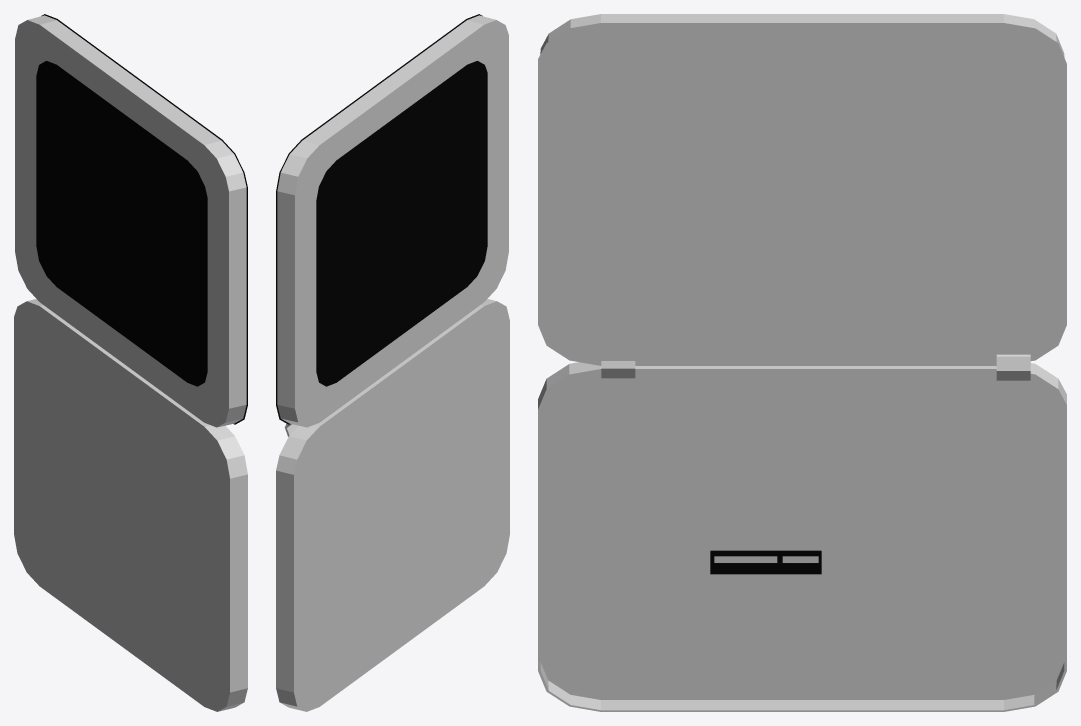
The model's file is Pc destapado Separado.fbx.
The picture shows the model from 3 angles, left to right: view 1: azimuth 30°, elevation 25°; view 2: azimuth 150°, elevation 25°; view 3: azimuth 270°, elevation 25°; orthographic projection. The views are drawn at different scales.
Visible parts, largest first — view 1: Carcasa.001, Carcasa; view 2: Carcasa.001, Carcasa; view 3: Carcasa.001, Carcasa.
Boxes of the visible parts, left/top/right/bottom form: Carcasa.001: left=15, top=15, right=246, bottom=427; Carcasa: left=14, top=14, right=247, bottom=711; Carcasa.001: left=277, top=15, right=508, bottom=427; Carcasa: left=276, top=14, right=509, bottom=711; Carcasa.001: left=538, top=14, right=1066, bottom=365; Carcasa: left=538, top=354, right=1066, bottom=711.
Size of the model in its own units: 29.68 by 667 by 464.
